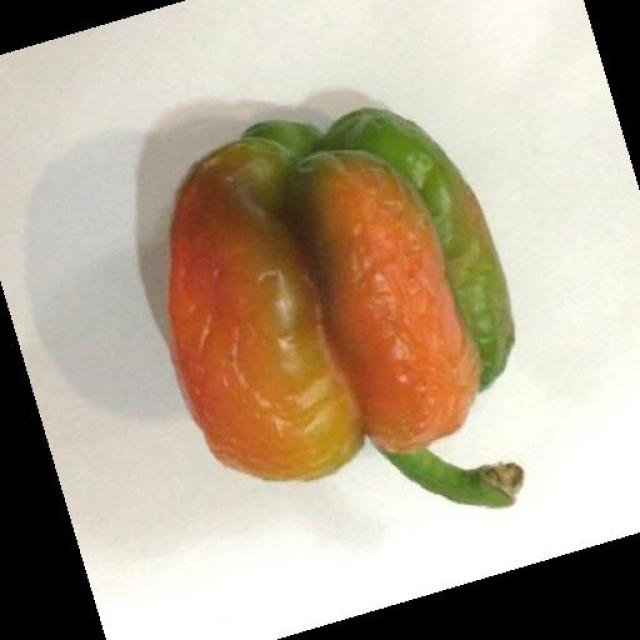Stale_Capsicum: (178, 117, 559, 473)
